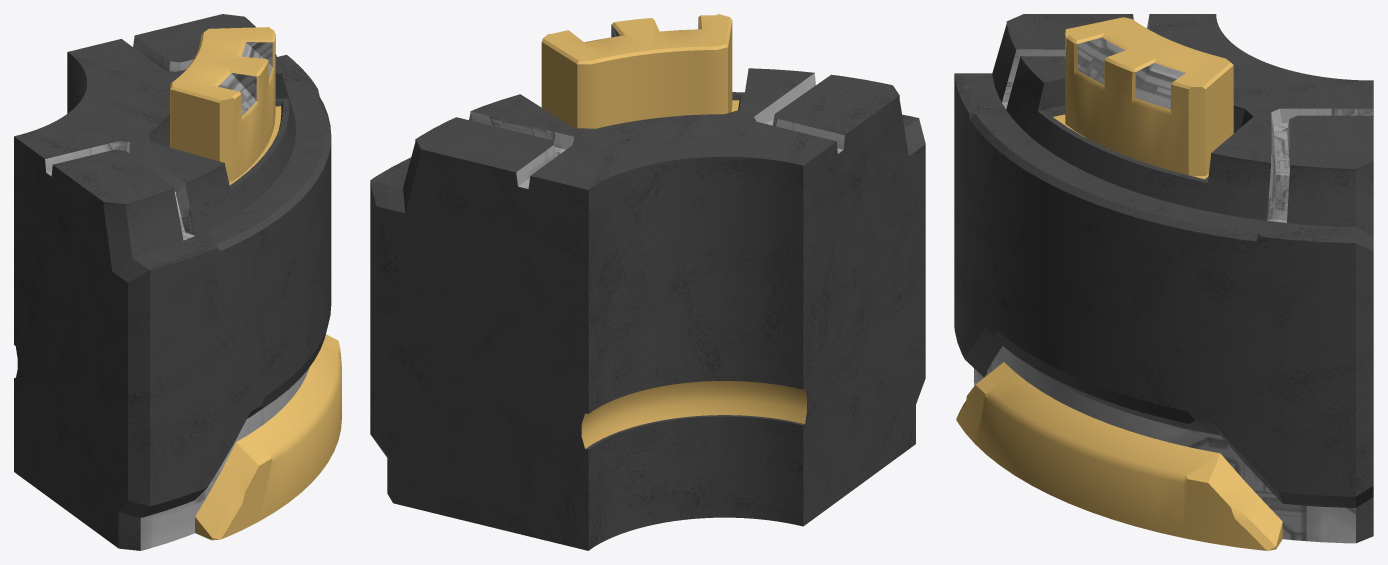
The model's file is NB_curve_Building_1.fbx.
3 views of the same model, side by side, from view 1: azimuth 30°, elevation 25°; view 2: azimuth 150°, elevation 25°; view 3: azimuth 270°, elevation 25° (orthographic). The views are drawn at different scales.
Parts seen in each view (by area): view 1: NB_curve_Building_1; view 2: NB_curve_Building_1; view 3: NB_curve_Building_1.
Part boxes in pixels (x1=…): NB_curve_Building_1: x1=14, y1=14, x2=341, y2=550; NB_curve_Building_1: x1=370, y1=14, x2=925, y2=550; NB_curve_Building_1: x1=954, y1=14, x2=1373, y2=550.
Bounding box in the file's own units: 320 × 352 × 320.
